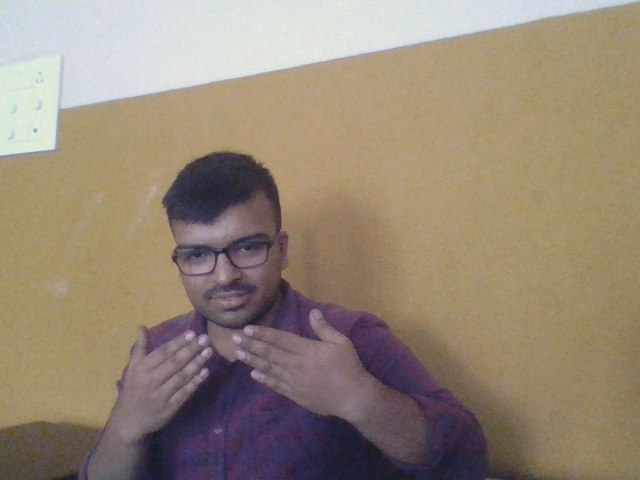Thank You: (94, 307, 375, 445)
